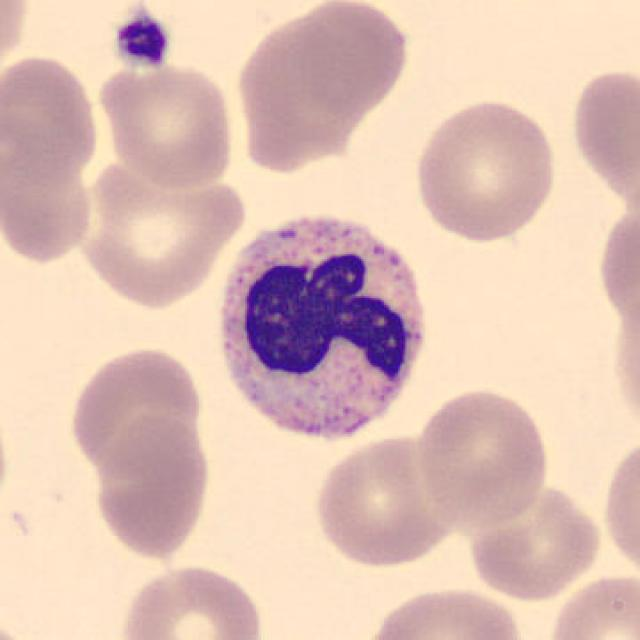Neutrophil: (208, 201, 434, 460)
Platelets: (109, 7, 174, 72)
RBC: (75, 155, 249, 310), (409, 95, 562, 244), (310, 430, 462, 571), (412, 384, 553, 531), (242, 26, 378, 170), (66, 342, 206, 480), (94, 56, 240, 188), (89, 411, 215, 562), (267, 0, 414, 118), (464, 481, 606, 603), (0, 49, 103, 189), (0, 136, 100, 270), (115, 560, 268, 640), (567, 62, 638, 213), (361, 582, 528, 640), (594, 194, 638, 353), (544, 569, 638, 640), (599, 428, 640, 584), (0, 0, 34, 83)
